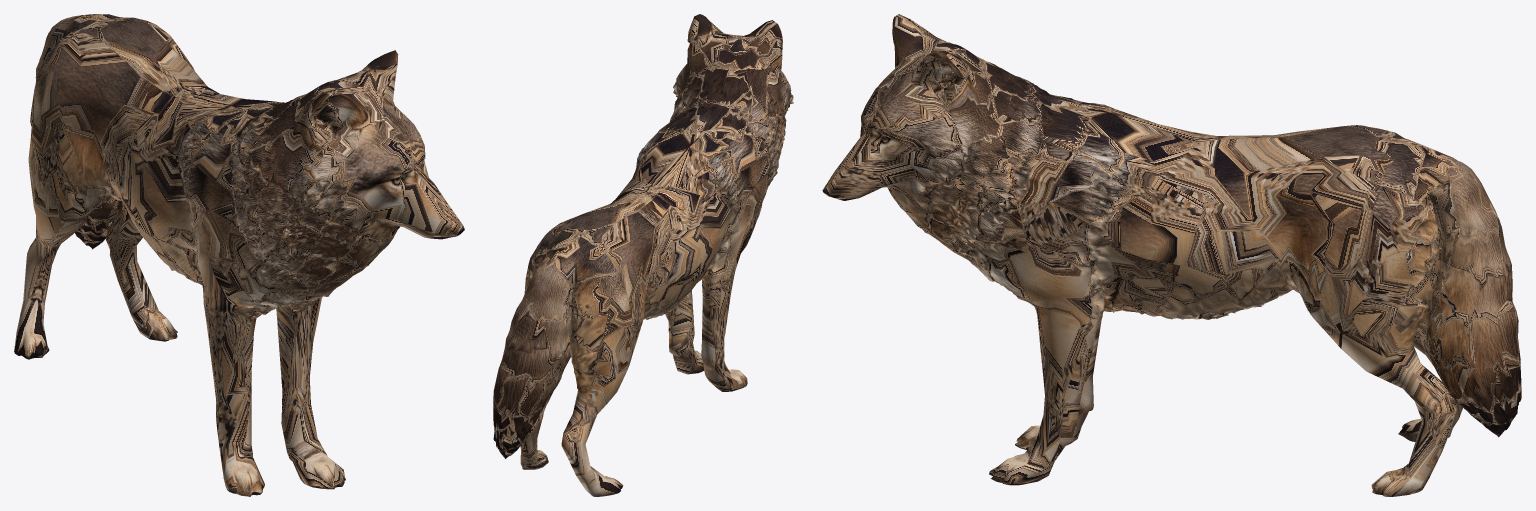
Rendered from wolf.glb.
The picture shows the model from 3 angles, left to right: view 1: azimuth 30°, elevation 25°; view 2: azimuth 150°, elevation 25°; view 3: azimuth 270°, elevation 25°; orthographic projection. The views are drawn at different scales.
Bounding box in the file's own units: 0.4818 × 1.32 × 1.89.
1 material, 1 textured.
